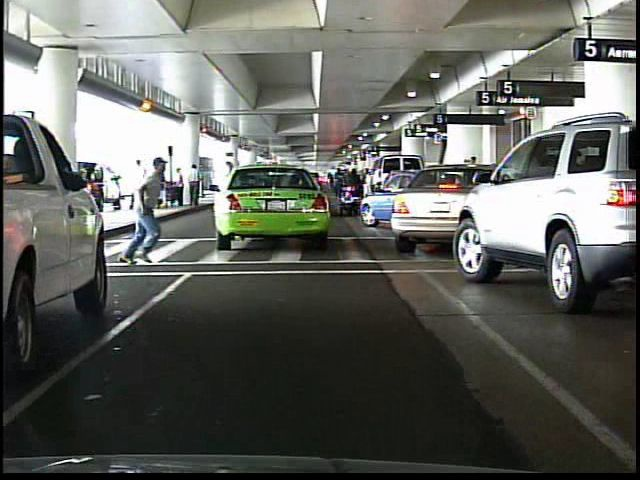person: (123, 153, 175, 272)
